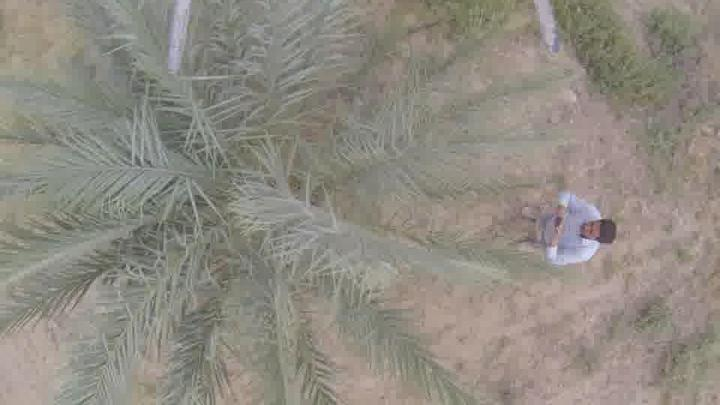Date-Palm-Crown: (47, 43, 422, 325)
